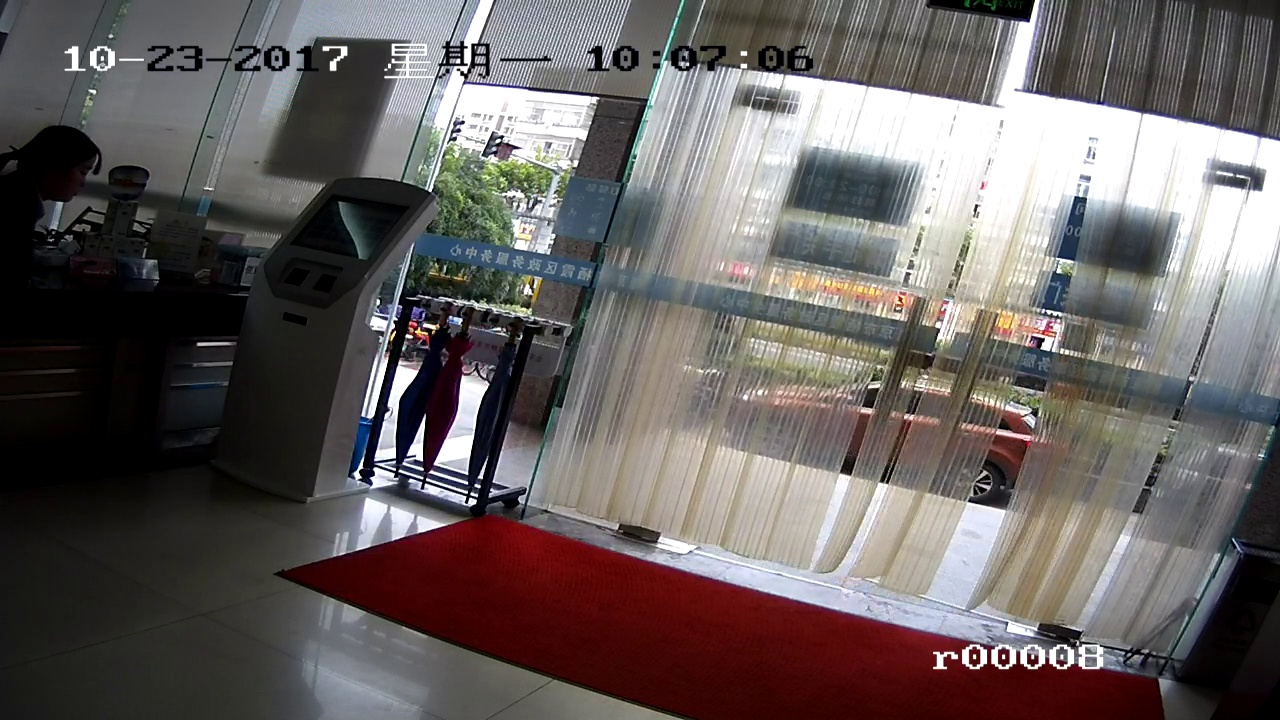monitor: (299, 182, 403, 262)
person: (20, 115, 97, 262)
